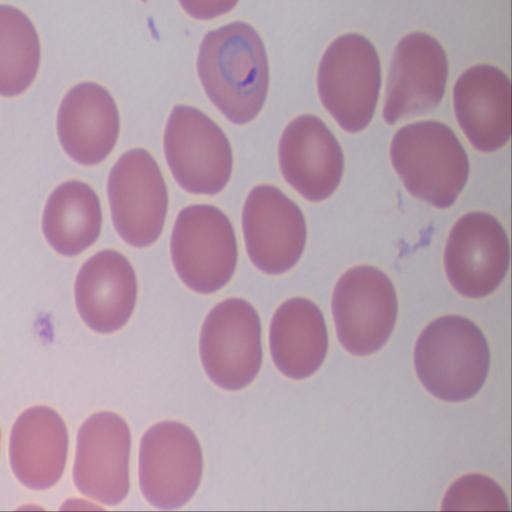Infected: (198, 23, 269, 127)
Uninfected: (314, 34, 381, 134), (391, 119, 465, 208), (161, 106, 233, 196), (414, 316, 490, 401), (440, 211, 511, 299), (383, 30, 447, 127), (170, 205, 238, 296), (331, 266, 398, 357), (277, 113, 344, 202), (71, 411, 133, 507), (242, 184, 307, 274), (107, 150, 167, 247), (199, 297, 261, 390), (76, 249, 141, 334), (139, 421, 202, 508), (58, 81, 119, 166), (453, 65, 512, 152), (10, 406, 68, 490), (270, 297, 328, 379), (42, 179, 102, 256)
